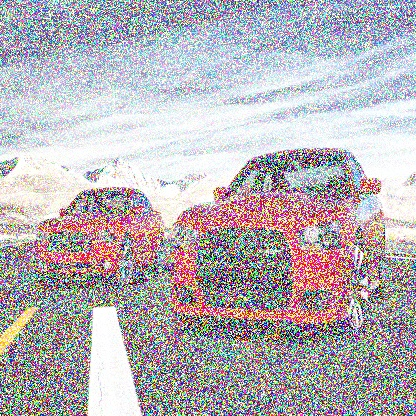Vehicle: (171, 146, 389, 339)
